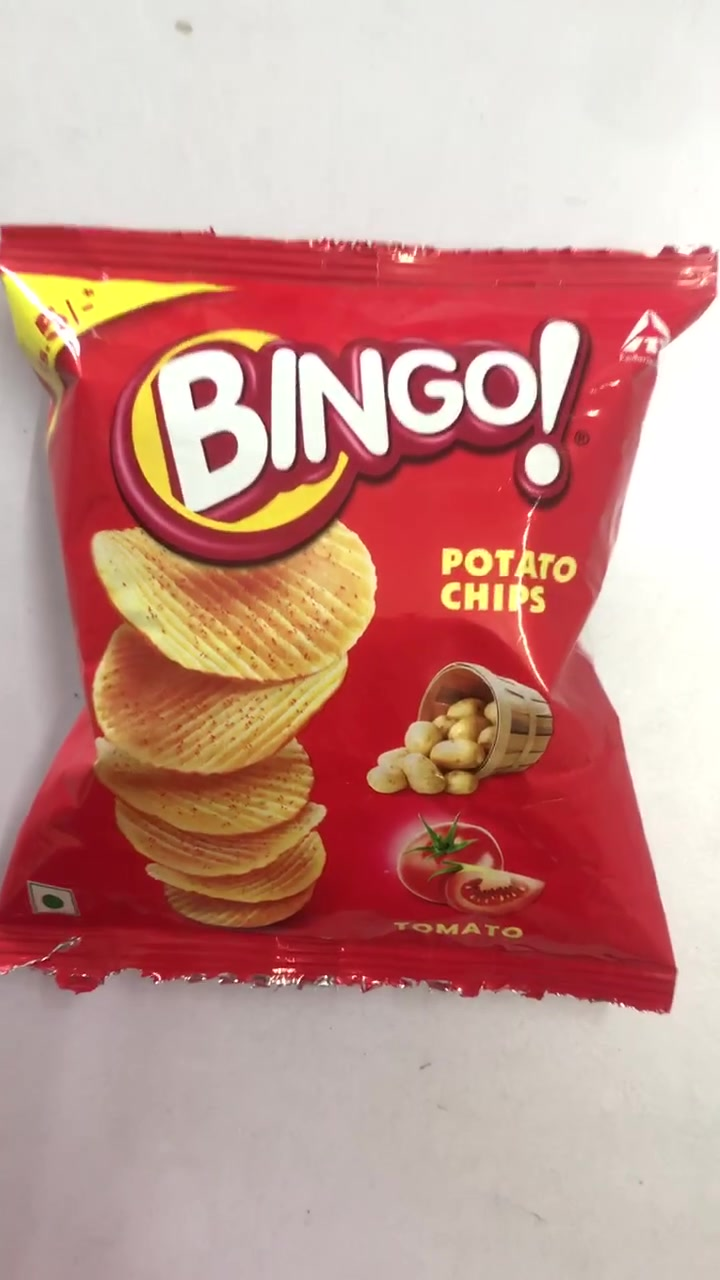Bingo: (1, 218, 703, 985)
